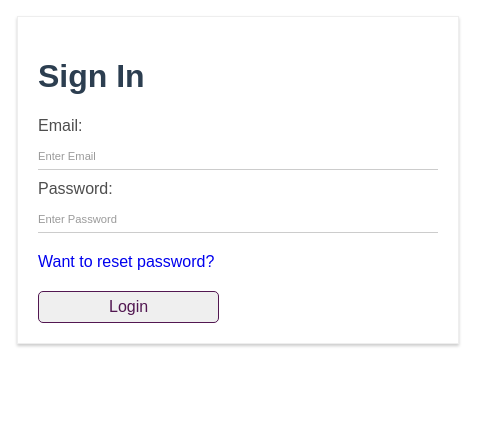
Test: Login.vue › requires password
Type "test@example.com" into the field with id "email" at coordinates (238, 155), box [38,141,438,170]
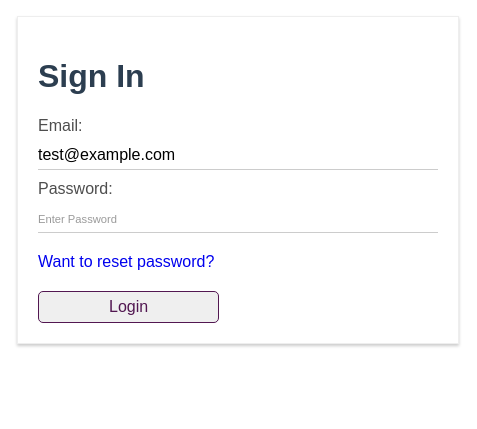
Submit the form, box [38,117,438,323]
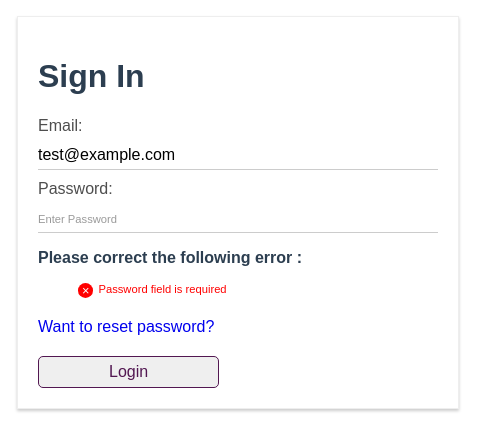
Expected: the list item "Password field is required" is shown, [98,283,227,295]
